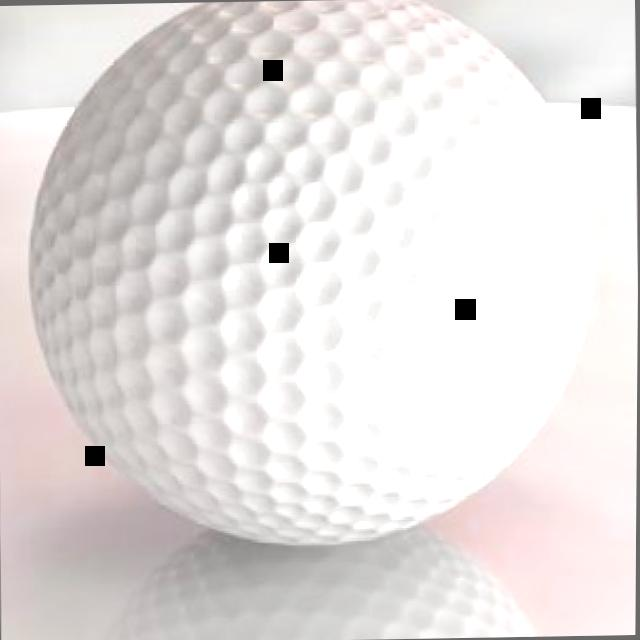golf ball: (14, 0, 613, 569)
